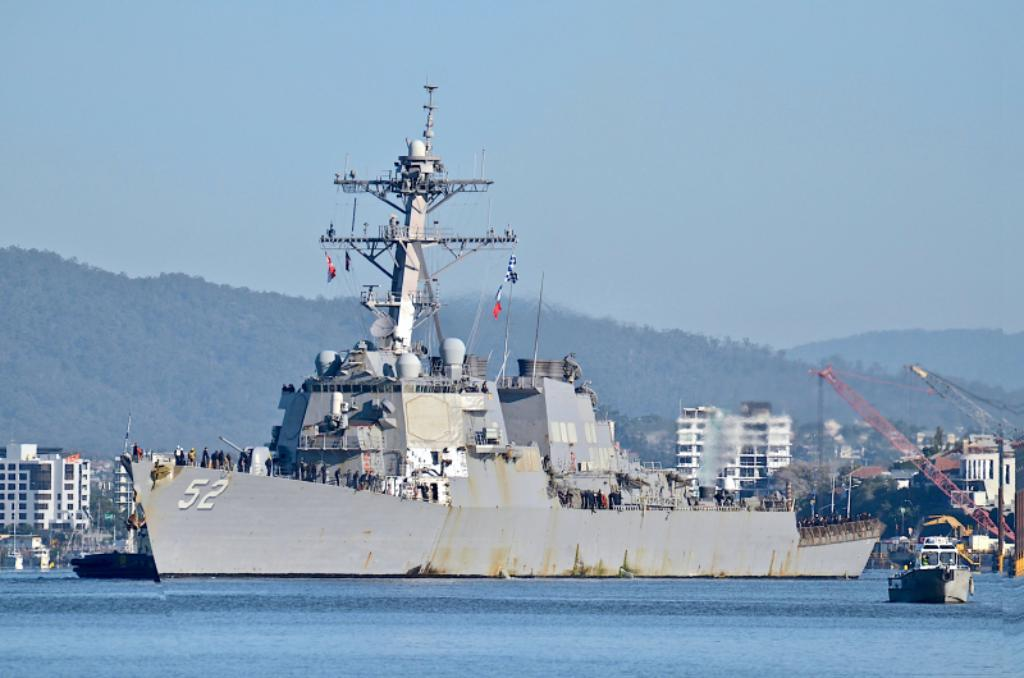PassengerShip: (888, 532, 980, 604)
